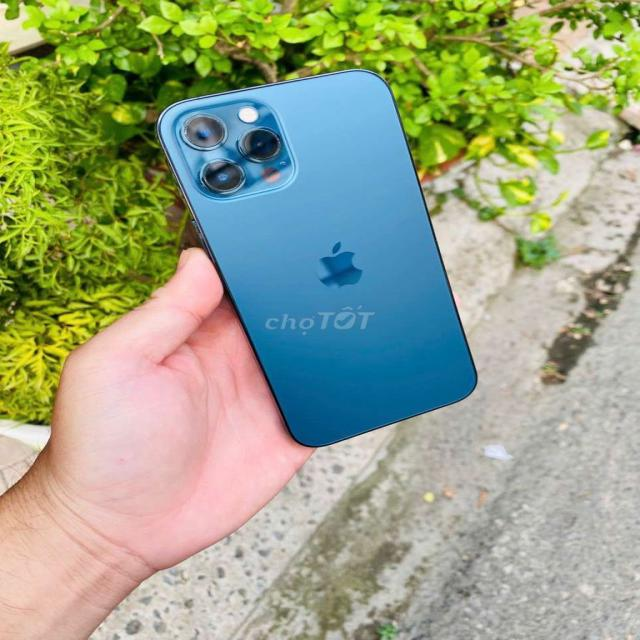gen_12_13: (153, 68, 484, 453)
